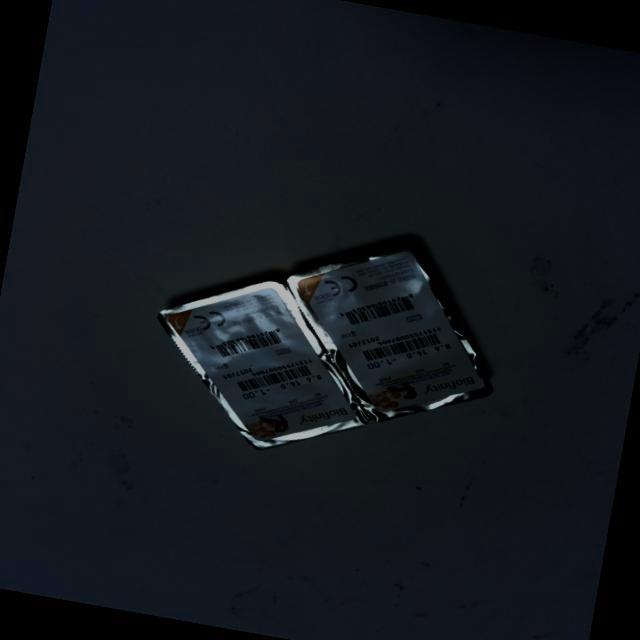metal: (126, 187, 518, 492)
